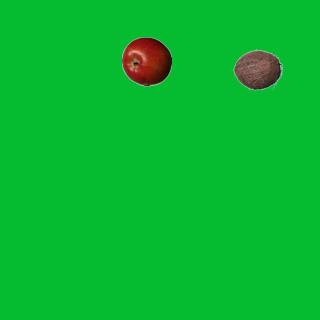Apple Braeburn: (121, 36, 171, 86)
Cocos: (232, 44, 282, 94)
